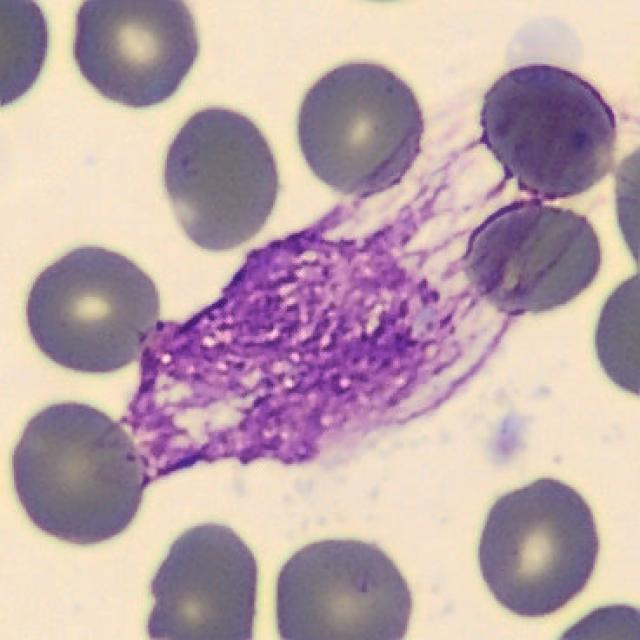Artefato: (118, 96, 603, 485)
